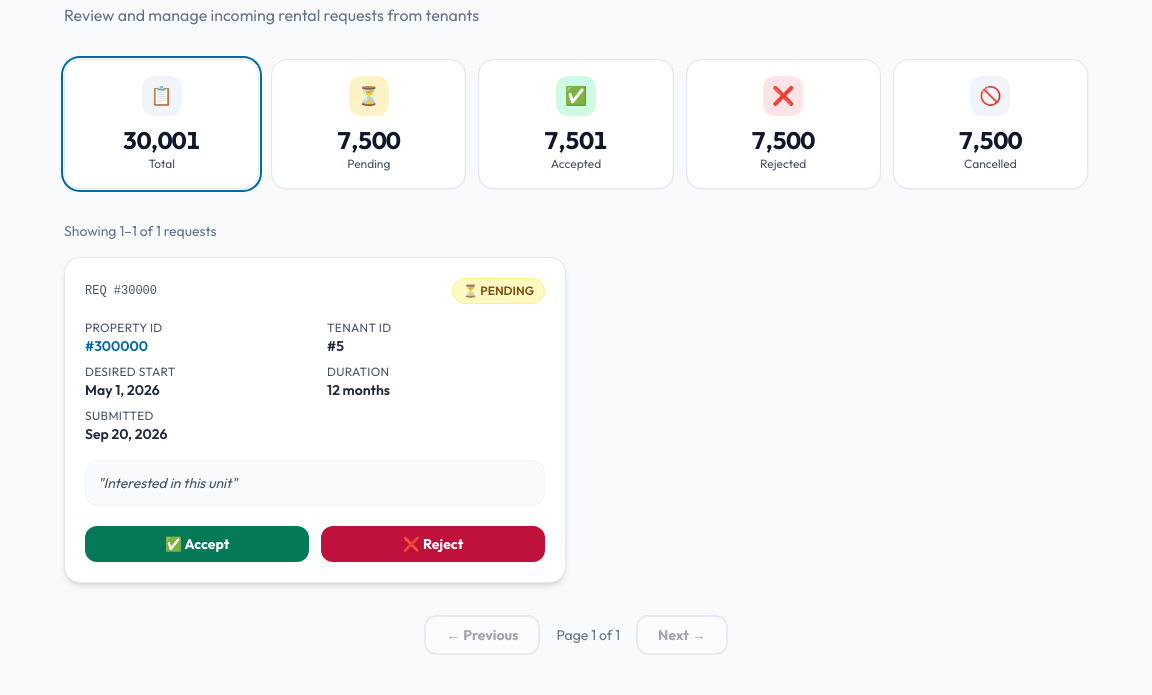
Test: a failed accept leaves the list untouched and reports the failure
(page scrolled)
Click the button "✅ Accept": (197, 544) [85,526,309,562]
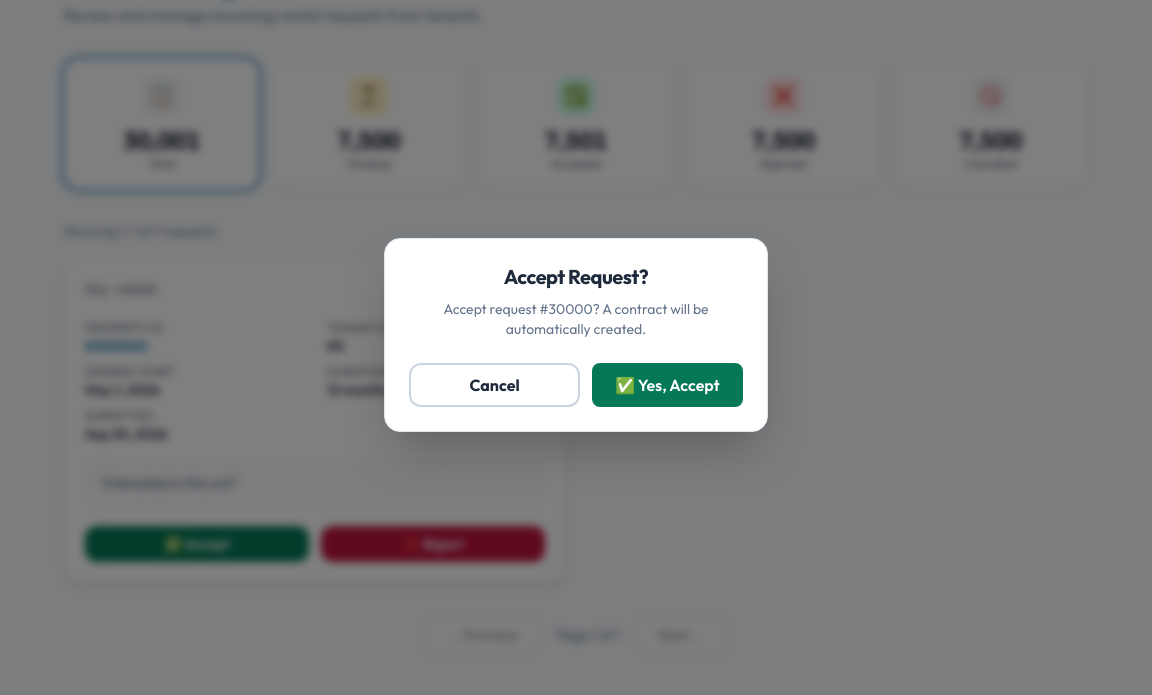
Click the button "✅ Yes, Accept": (668, 385) [592,363,743,407]
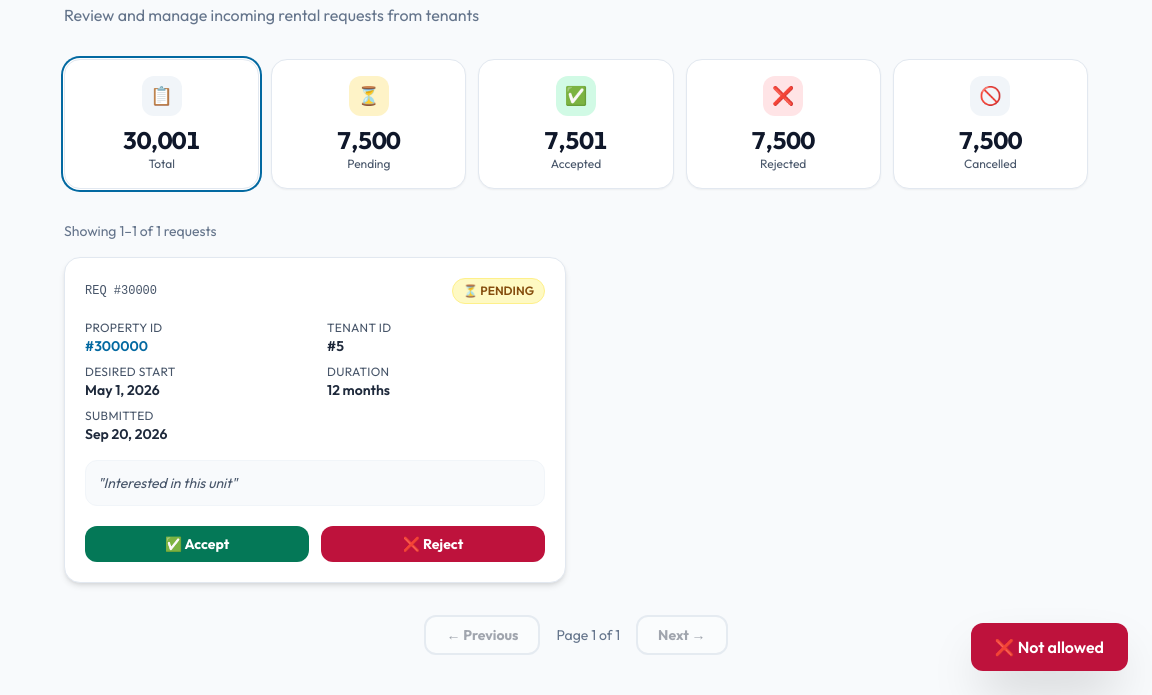
expect the text "⏳ PENDING" is shown: met, box [452,278,545,304]
expect the text "❌ Not allowed" is shown: met, box [971,623,1128,671]
